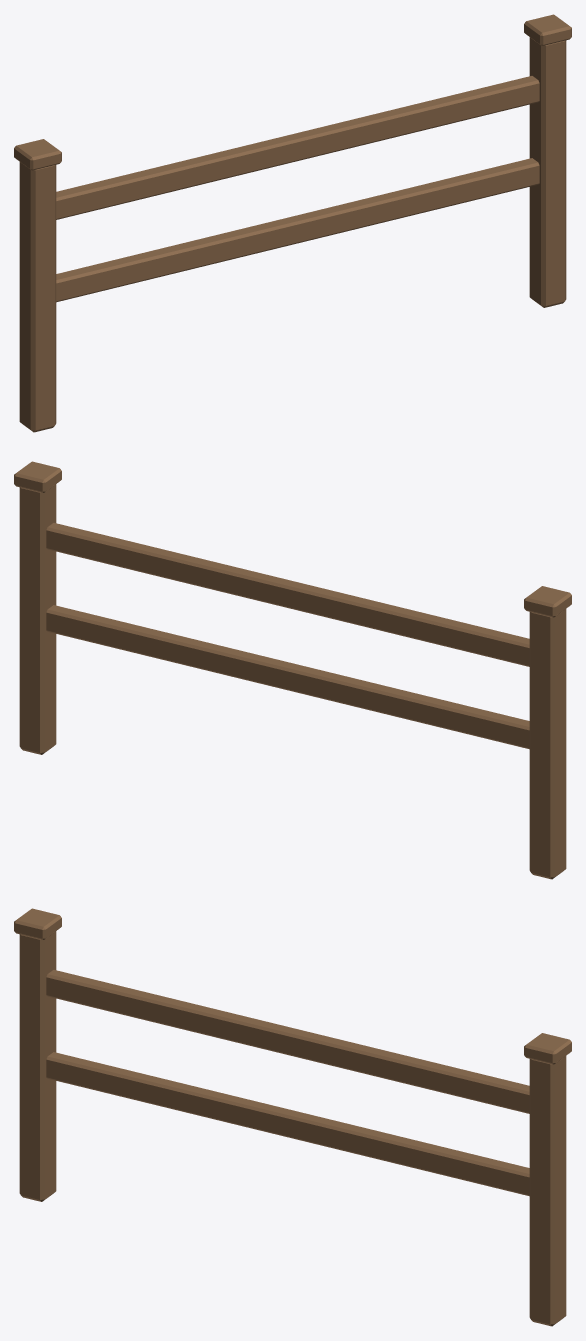
The model's file is fence_segment.glb.
3 views of the same model, one above another, from view 1: azimuth 30°, elevation 25°; view 2: azimuth 150°, elevation 25°; view 3: azimuth 330°, elevation 25° (orthographic).
Visible parts, largest first — view 1: fence_segment; view 2: fence_segment; view 3: fence_segment.
Boxes of the visible parts, x1=… form: fence_segment: x1=14, y1=14, x2=571, y2=432; fence_segment: x1=14, y1=461, x2=571, y2=879; fence_segment: x1=14, y1=908, x2=571, y2=1326.
Size of what is drawn, in the model's own units: 2.55 by 1.25 by 0.15.
